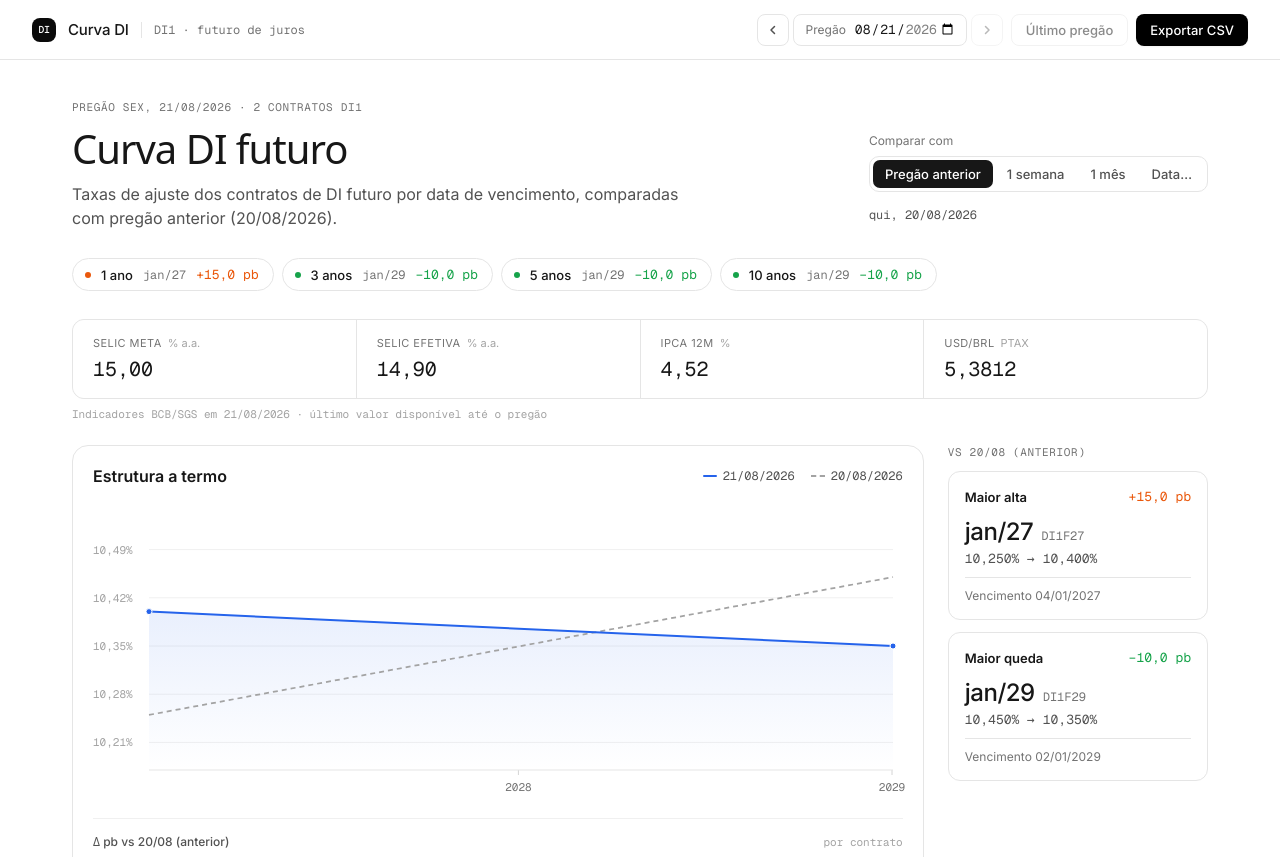
Test: App › só um aviso por vez
The image size is (1280, 857).
Type "2026-08-15" into the date field labelled "Pregão" at [905, 30], box [854,20,956,39]
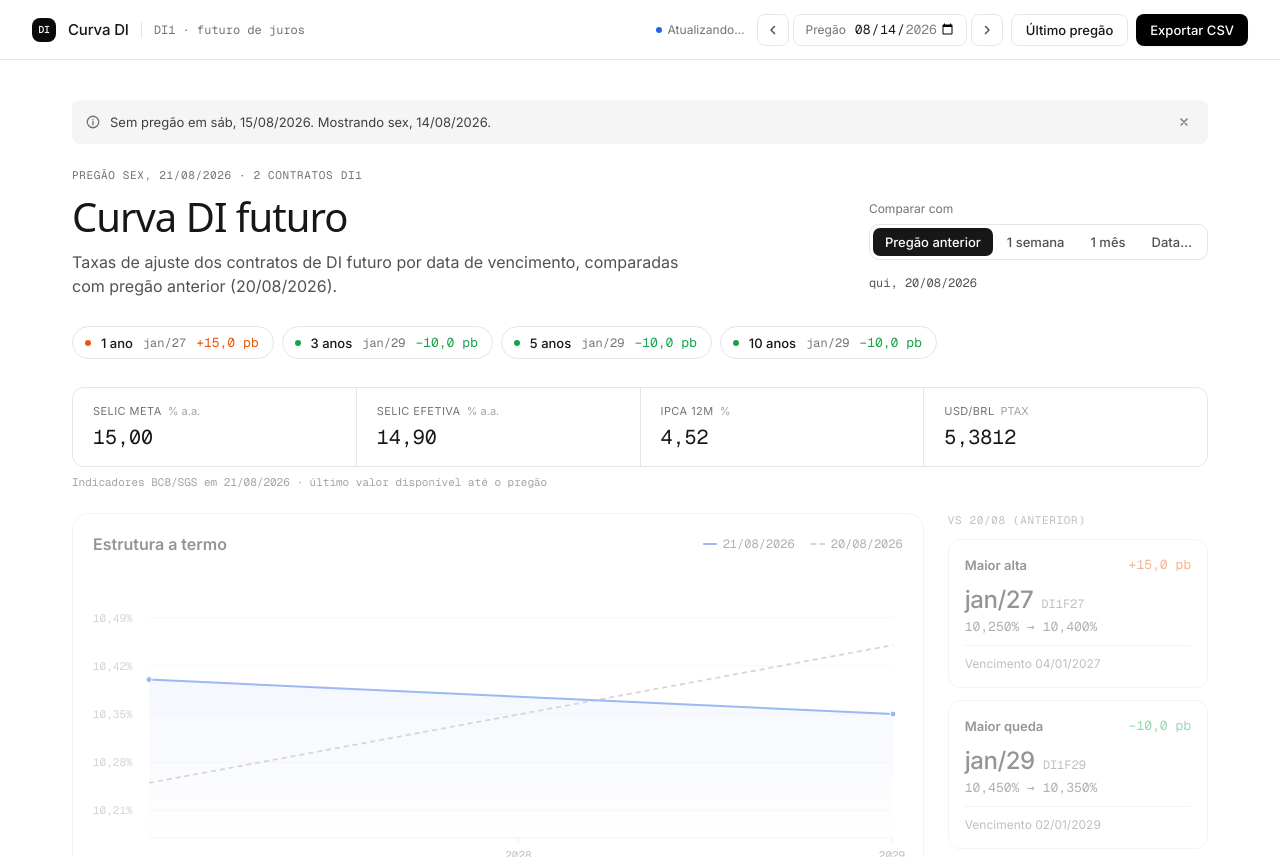
Click the button "Data…" at [1172, 242], box [1140,228,1204,256]
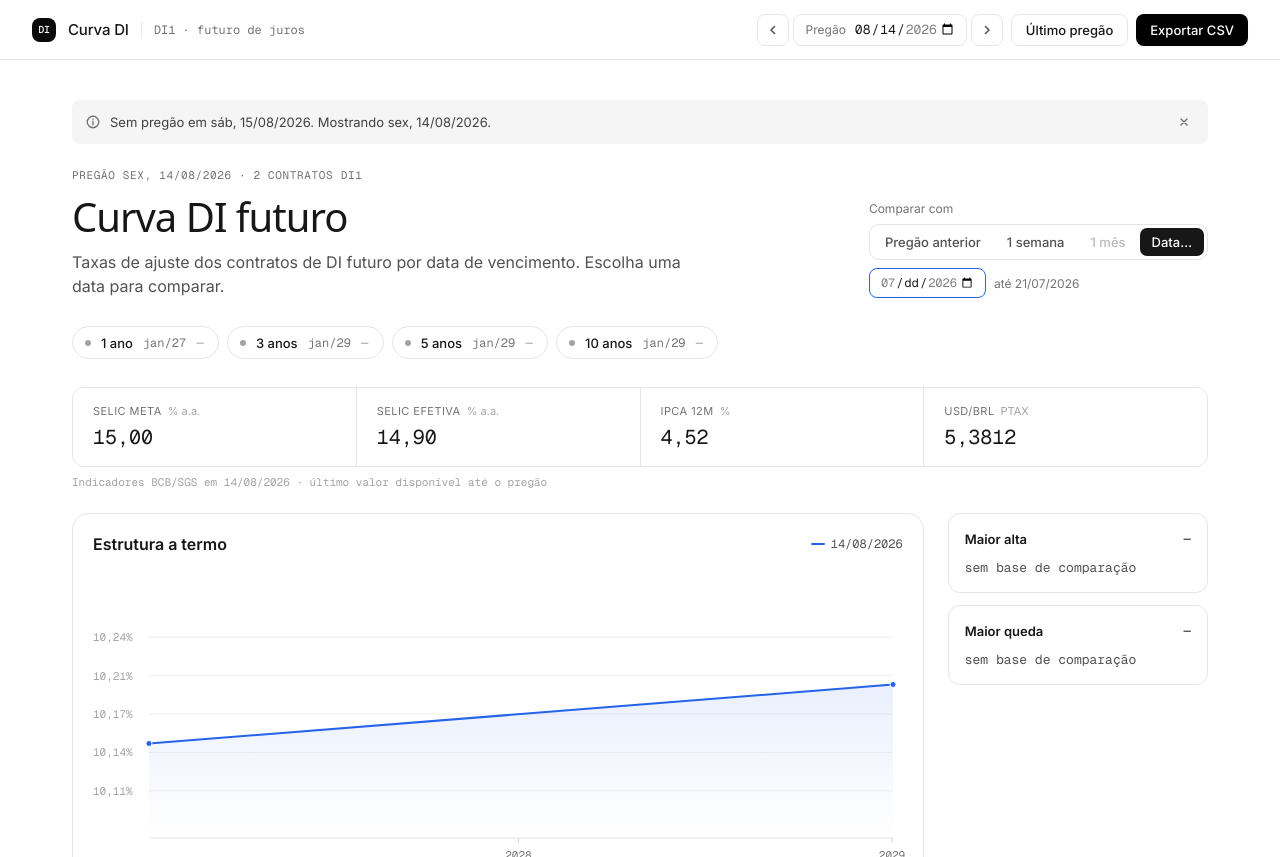
Type "2026-07-25" into the date field named "Data de comparação" at [927, 283], box [880,274,975,292]
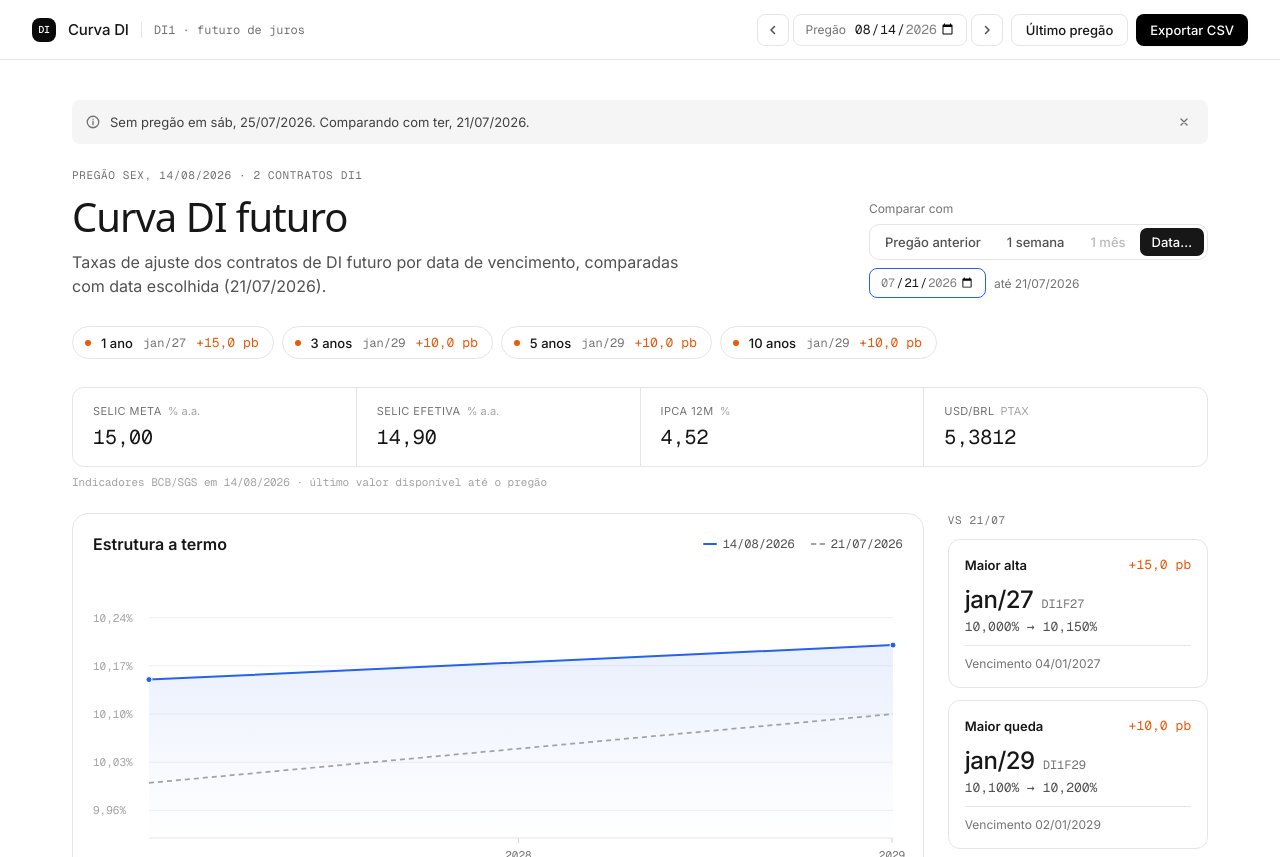
Expected: the message with test id "notice" shows "Comparando com", [110,114,530,130]
